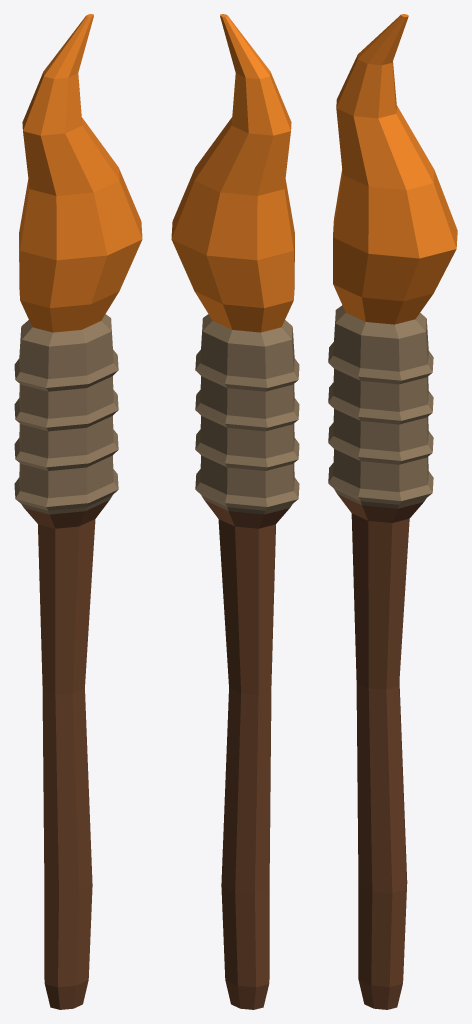
Rendered from NEW_RECOVERY_072_LOD2.fbx.
The picture shows the model from 3 angles, left to right: view 1: azimuth 30°, elevation 25°; view 2: azimuth 150°, elevation 25°; view 3: azimuth 330°, elevation 25°; orthographic projection.
Visible parts, largest first — view 1: Handheld_Torch; view 2: Handheld_Torch; view 3: Handheld_Torch.
Boxes of the visible parts, x1,y1,x2,y2 form: Handheld_Torch: [14, 14, 142, 1009]; Handheld_Torch: [171, 14, 299, 1009]; Handheld_Torch: [328, 14, 457, 1009].
Size of the model in its own units: 13.3 by 9.73 by 99.
